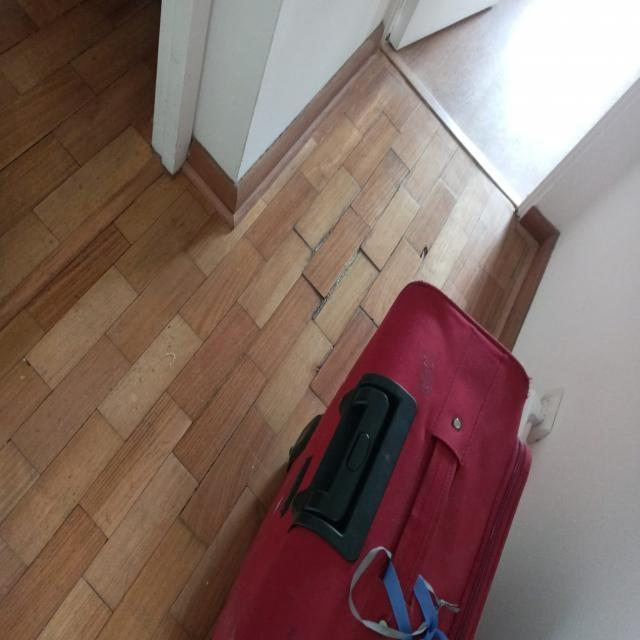Suitcase: (207, 281, 531, 640)
